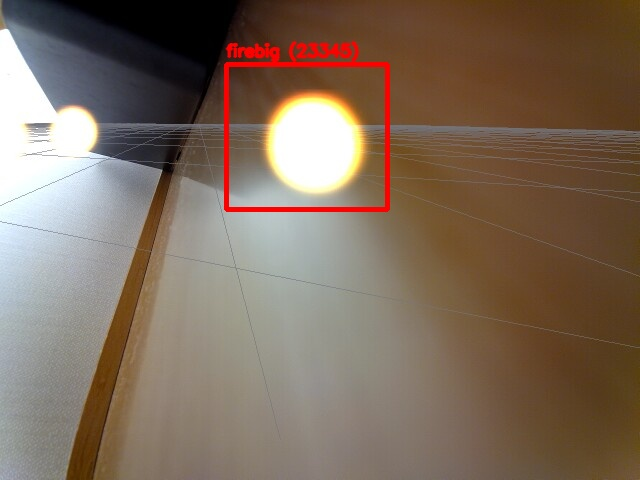firebig: (226, 64, 387, 209)
